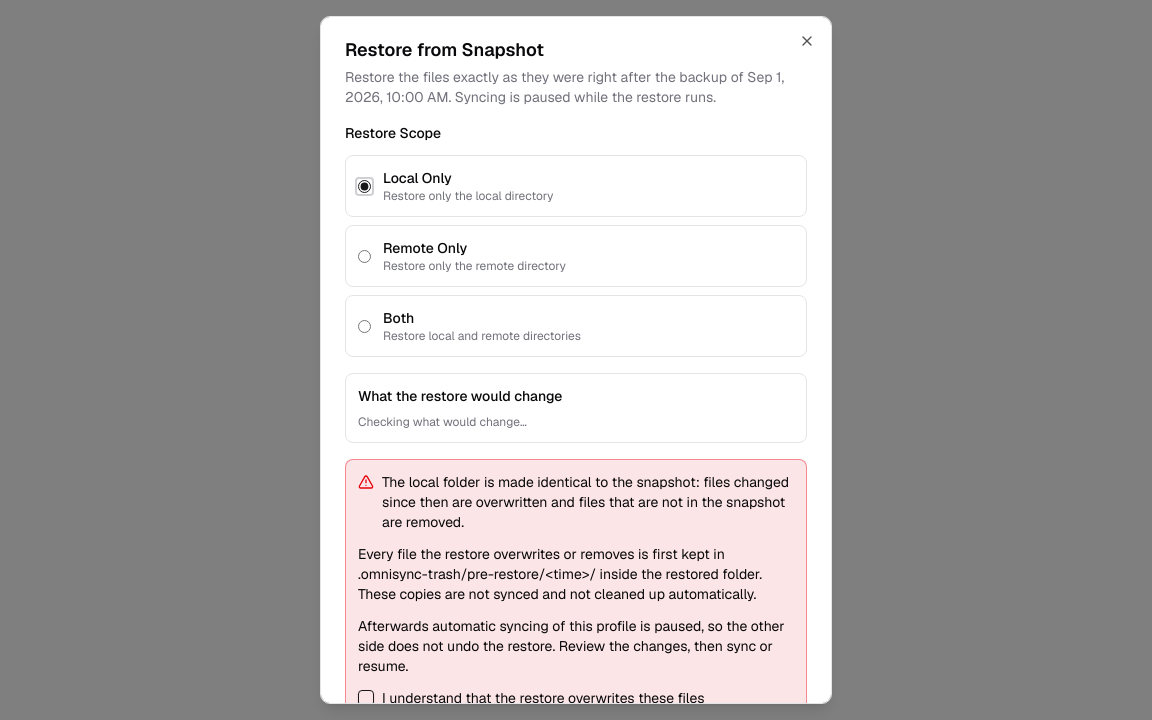
Test: RestoreDialog says what the backend does › a one-sided restore mentions that automatic syncing is paused afterwards; both sides does not
Click the radio button labelled "Both Restore local and remote directories": (364, 326) top-left (358, 320), bottom-right (371, 332)
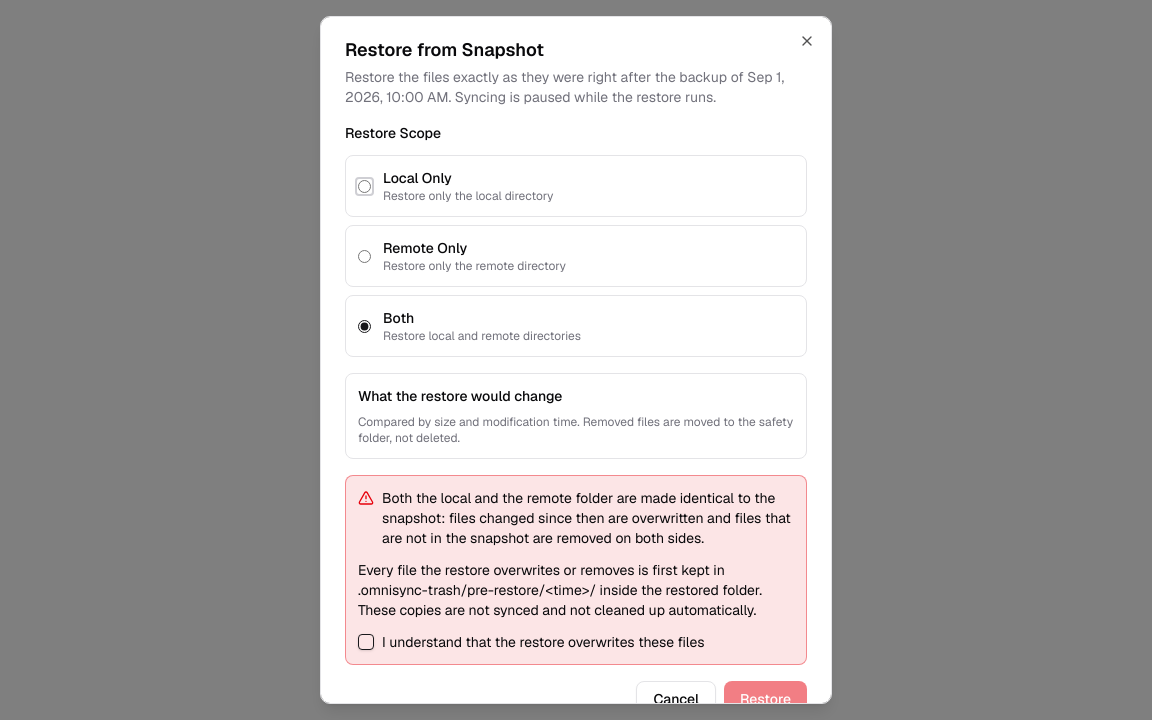
Expected: the dialog no longer shows "automatic syncing of this profile is paused", top-left (320, 16), bottom-right (832, 704)
